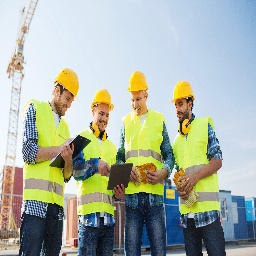helmet: (52, 62, 82, 101), (168, 79, 195, 103), (128, 69, 150, 95), (91, 88, 115, 111)
person: (21, 63, 83, 256), (119, 66, 175, 256), (169, 68, 219, 256), (84, 82, 122, 255)
vest: (23, 107, 66, 223), (172, 118, 218, 219), (80, 126, 118, 223), (124, 113, 163, 200)
